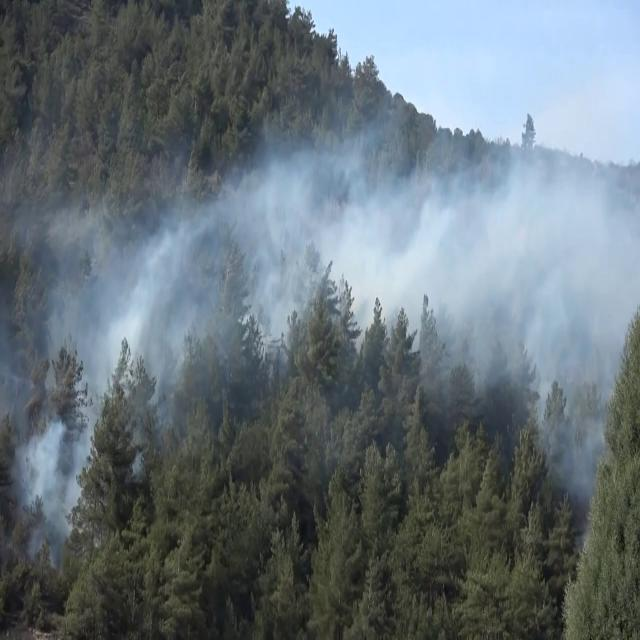Smoke: (273, 148, 625, 338), (55, 198, 266, 406)
